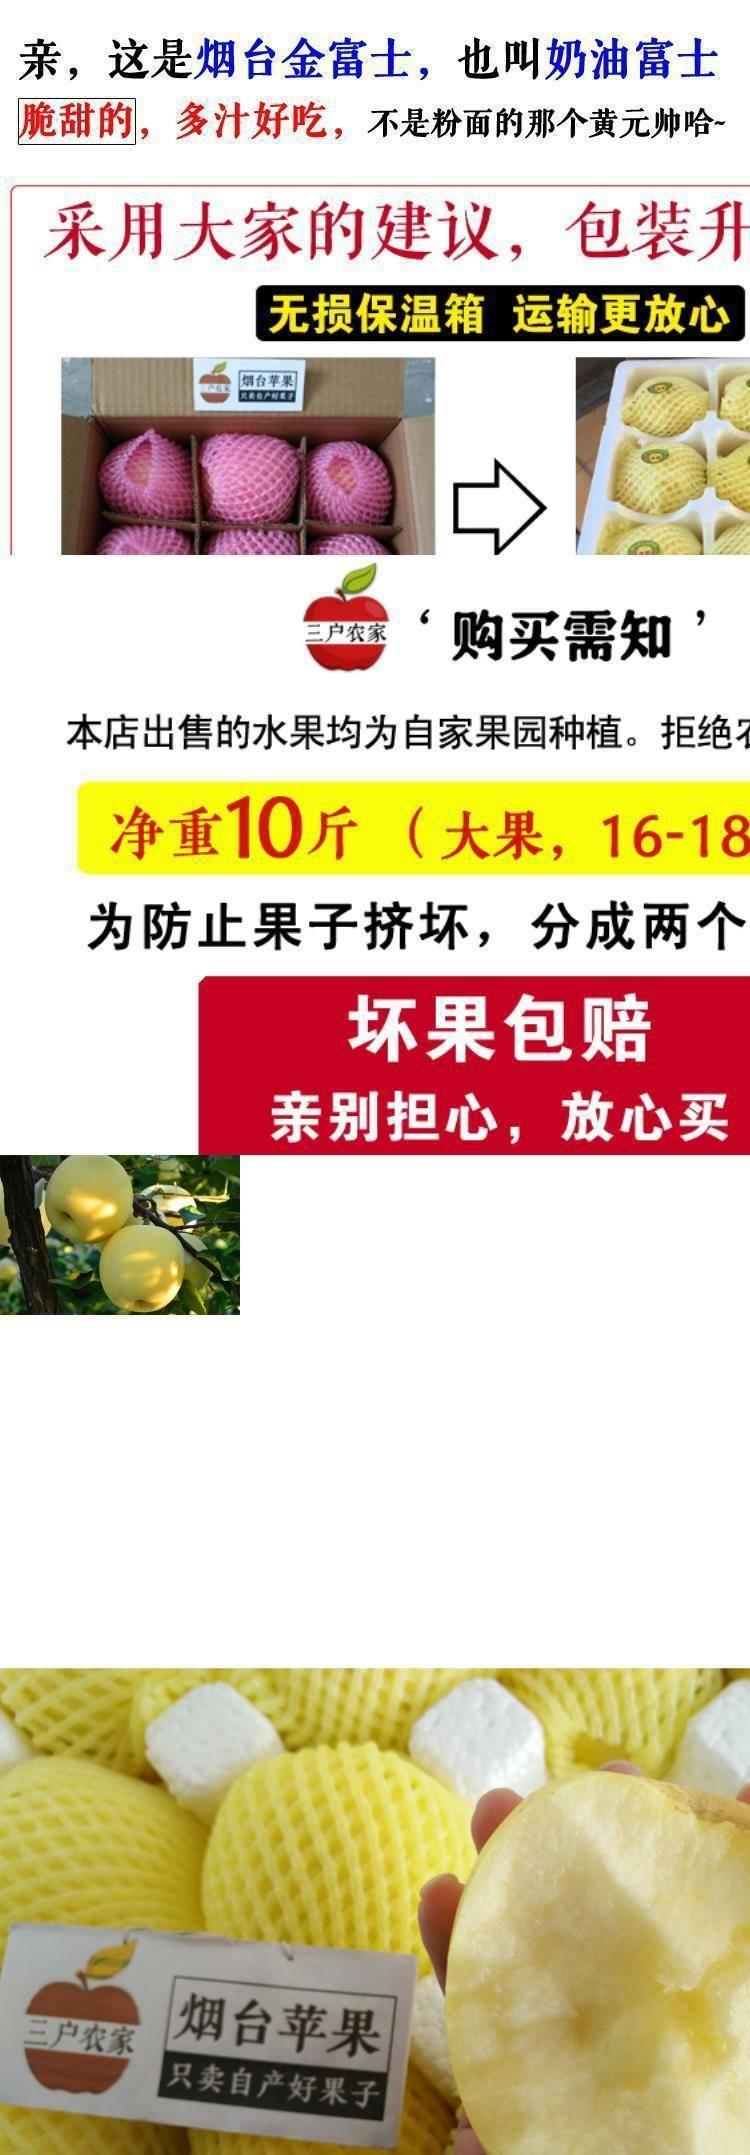apple: (38, 1156, 135, 1251), (96, 1229, 185, 1317)
